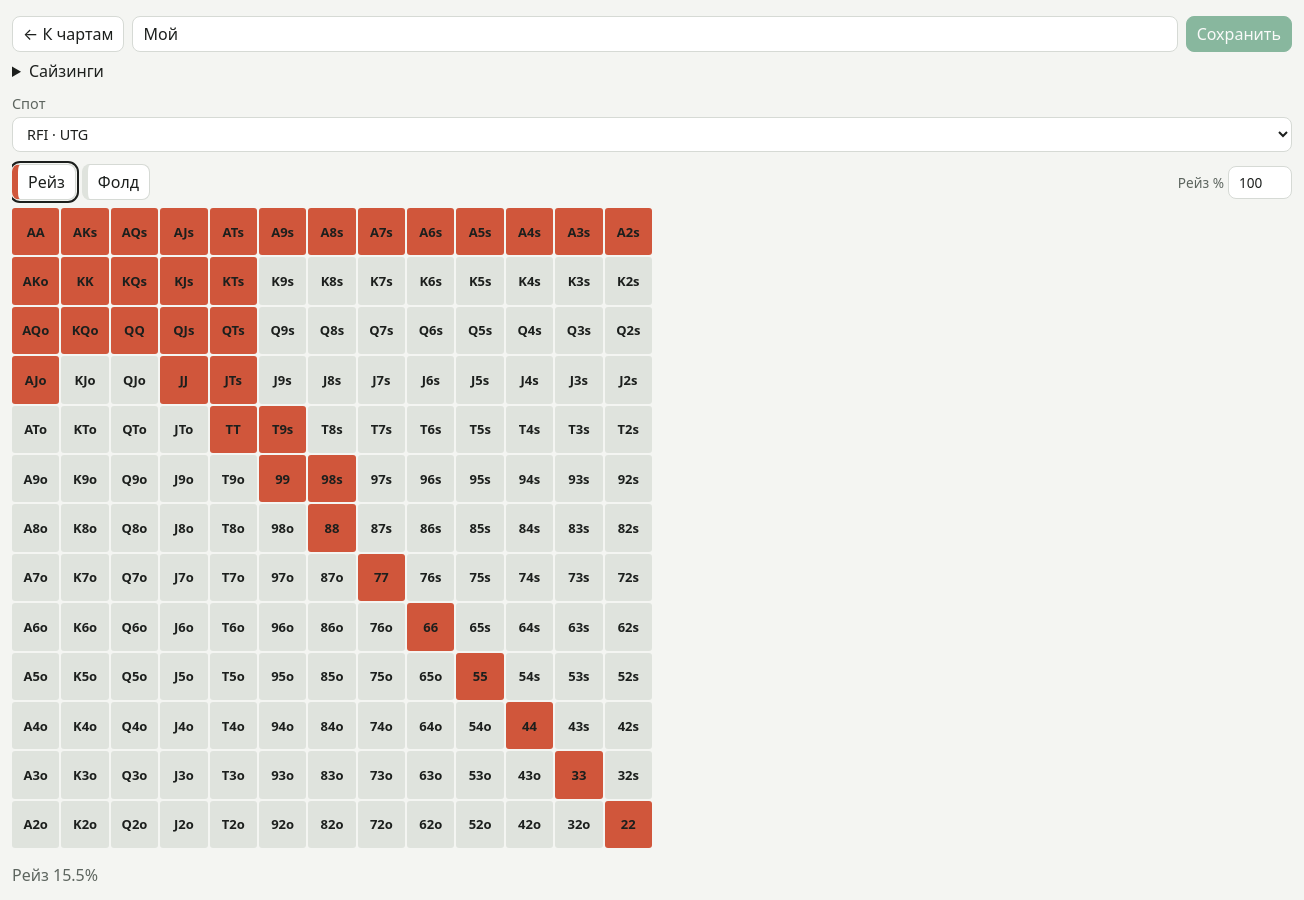
Scenario: ChartEditor › paints a hand and saves the chart
Expected: the table is shown, 12,208 -> 652,848
Press the mouse on the cell "72o" at (381, 824), box 358,801 -> 405,848
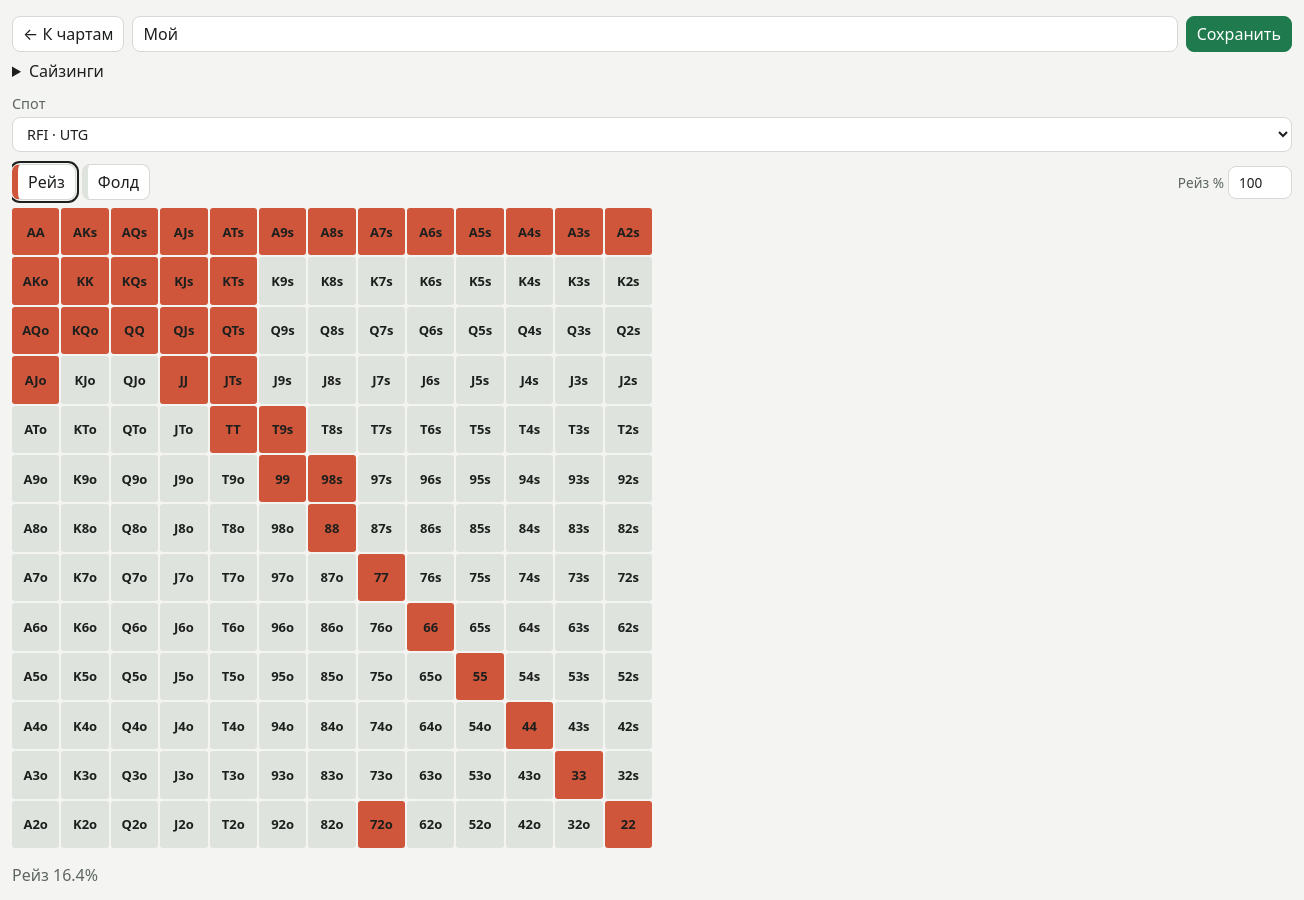
Click the button "Сохранить" at (1239, 34), box 1186,16 -> 1292,52
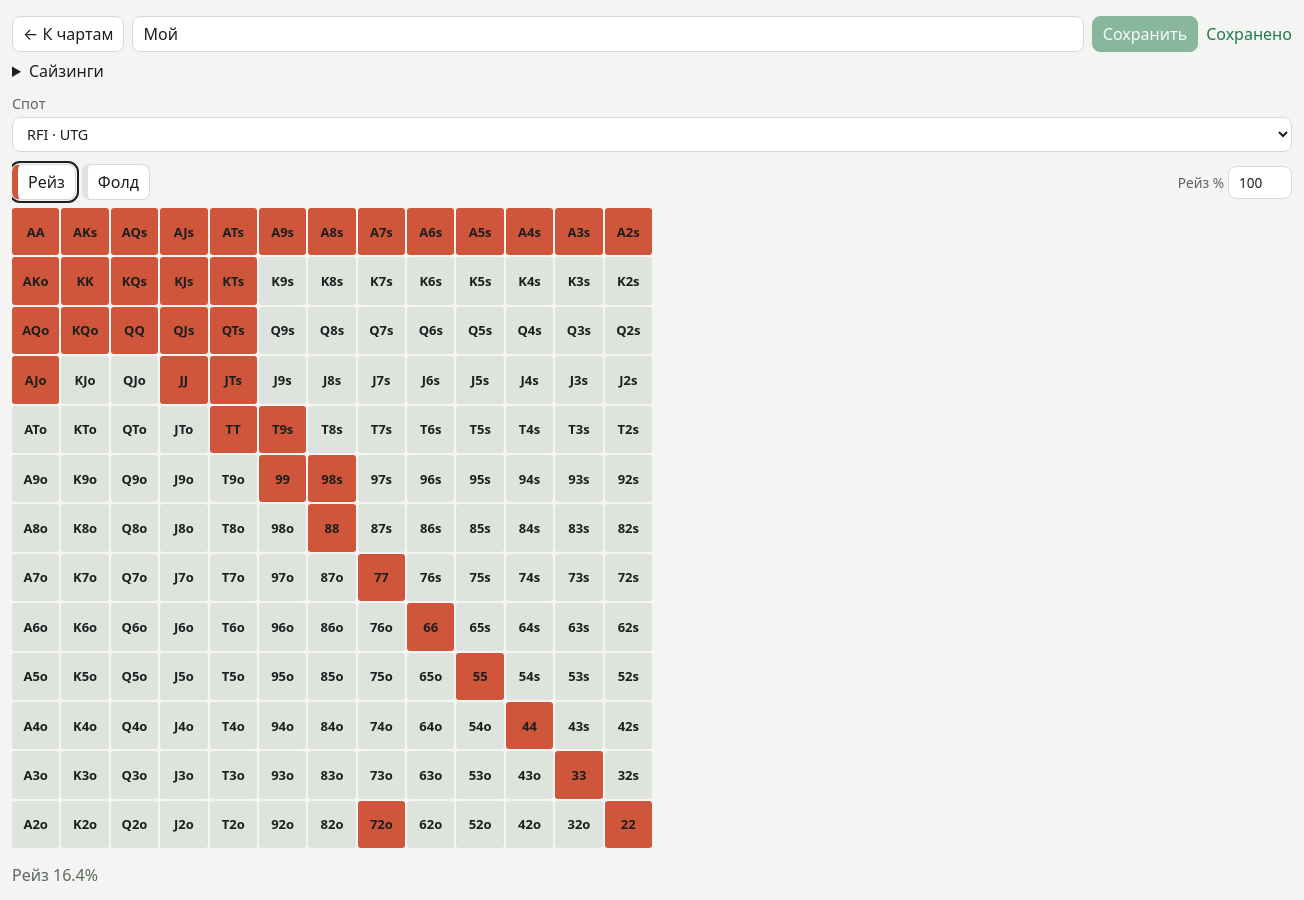
Now the text "Сохранено" is shown, box 1206,23 -> 1292,45
